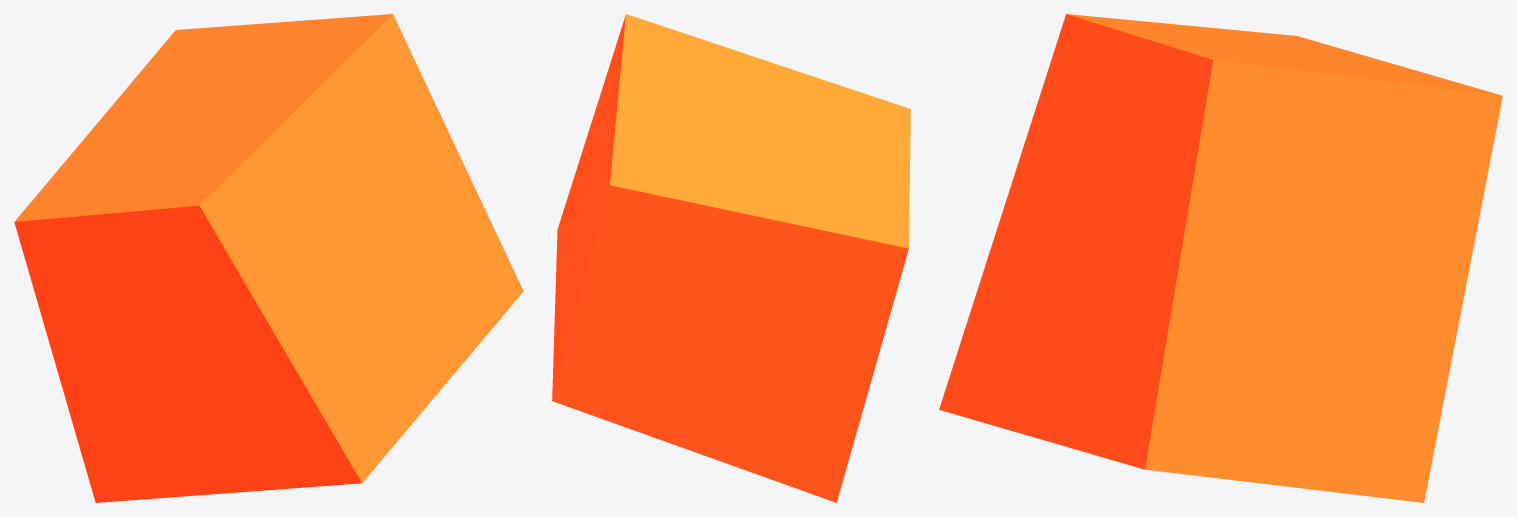
File: nature-lava-brick-2.glb
3 views of the same model, side by side, from view 1: azimuth 30°, elevation 25°; view 2: azimuth 150°, elevation 25°; view 3: azimuth 270°, elevation 25° (orthographic). The views are drawn at different scales.
Visible parts, largest first — view 1: lava-brick; view 2: lava-brick; view 3: lava-brick.
Part boxes in pixels (x1,y1,x2,y2): lava-brick: (14,14,523,502); lava-brick: (552,14,910,502); lava-brick: (939,14,1502,502).
Bounding box in the file's own units: 0.6845 × 0.6553 × 0.6058.
